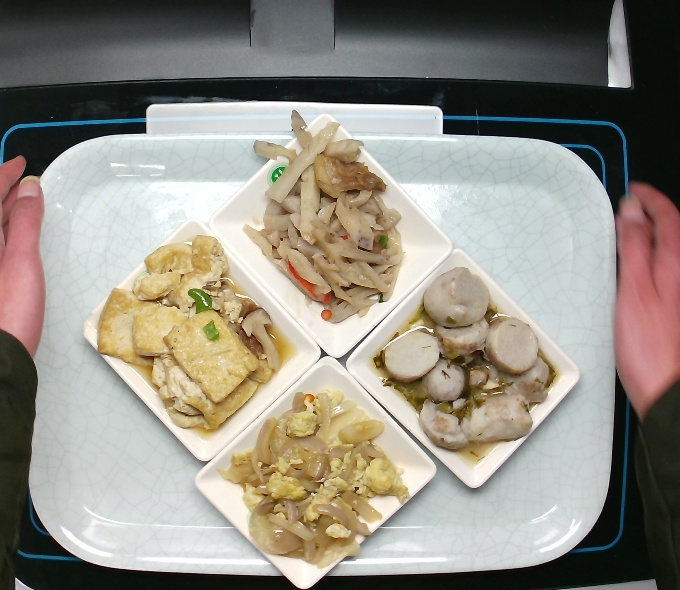wcq-JiaChangDouFu: (89, 238, 279, 432)
wcq-QingChaoOuPian: (241, 106, 403, 326)
wcq-YangCongChaoDan: (221, 388, 413, 568)
wcq-YangYu: (378, 265, 553, 451)
